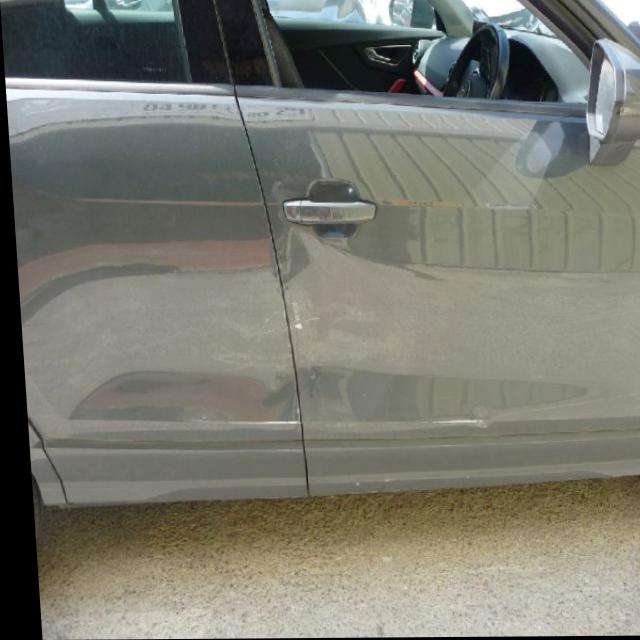porte-avant: (213, 0, 640, 501)
